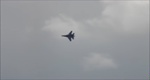maybay_muctieu: (61, 29, 76, 42)
